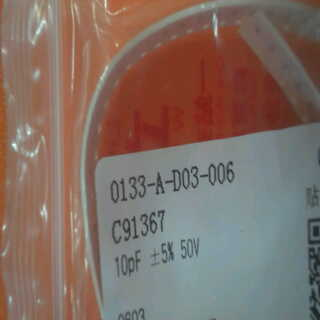10pF: (113, 244, 148, 278)
